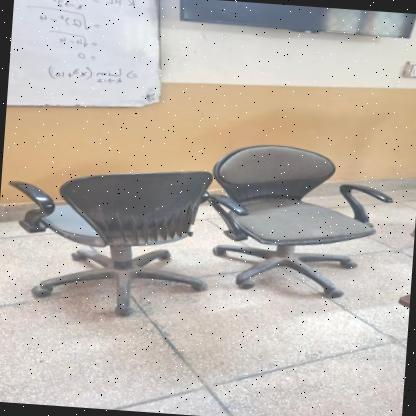chair: (2, 148, 218, 328), (199, 130, 395, 314)
